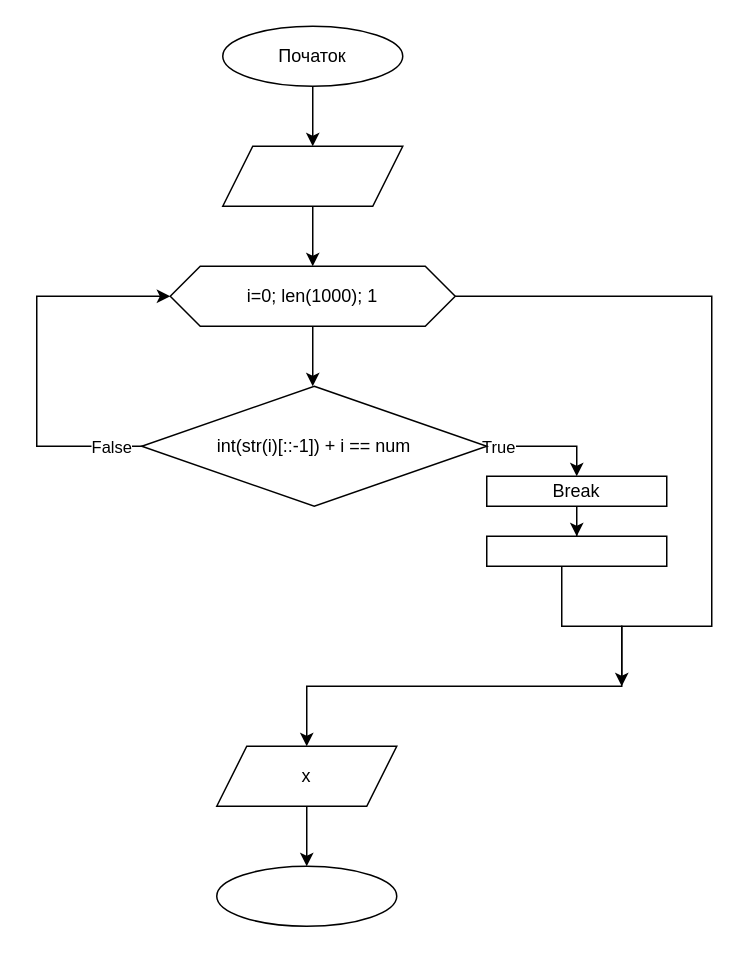
This 750x953 diagram has some shape labels left out. The shapes that lost their labels are listed below. From the top down, each one's centre as x and y in pixels, then its label:
At [312,175]: "num, x".
At [576,550]: "x = i".
At [306,895]: "Кінець".
